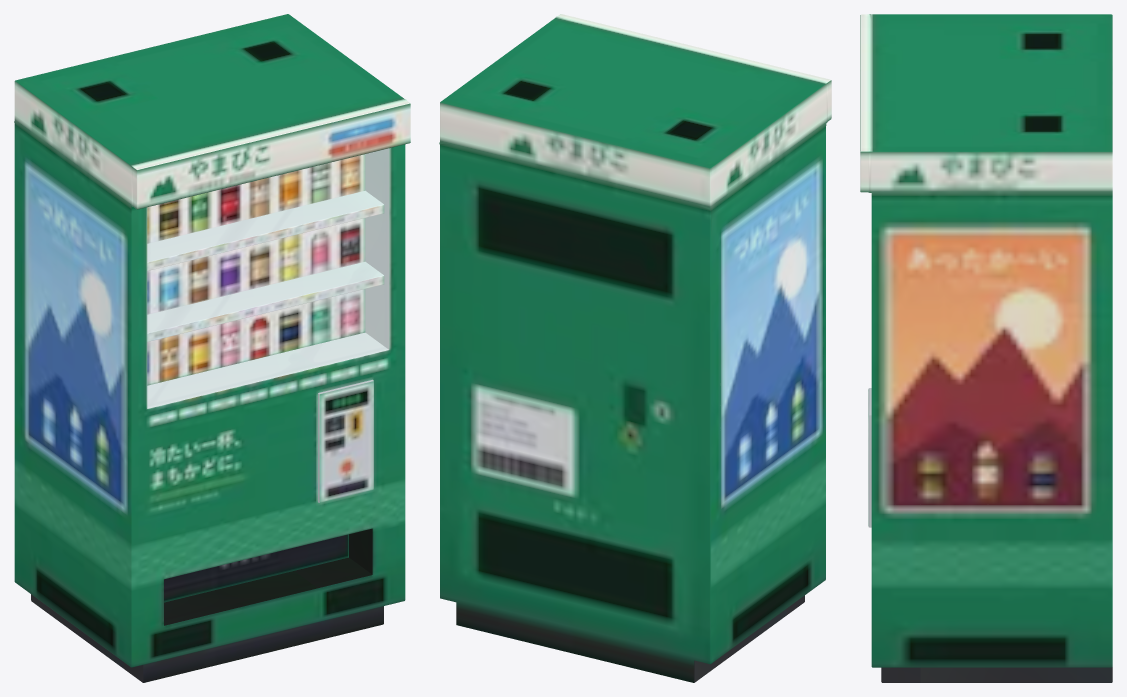
File: vending_green.glb
The picture shows the model from 3 angles, left to right: view 1: azimuth 30°, elevation 25°; view 2: azimuth 150°, elevation 25°; view 3: azimuth 270°, elevation 25°; orthographic projection. The views are drawn at different scales.
Parts seen in each view (by area): view 1: SM_Vending_Machine_Green; view 2: SM_Vending_Machine_Green; view 3: SM_Vending_Machine_Green.
Boxes of the visible parts, x1=… form: SM_Vending_Machine_Green: x1=14, y1=14, x2=410, y2=682; SM_Vending_Machine_Green: x1=439, y1=14, x2=831, y2=682; SM_Vending_Machine_Green: x1=860, y1=14, x2=1112, y2=682.
Bounding box in the file's own units: 1 × 1.83 × 0.775.
2 materials, 2 textured.
